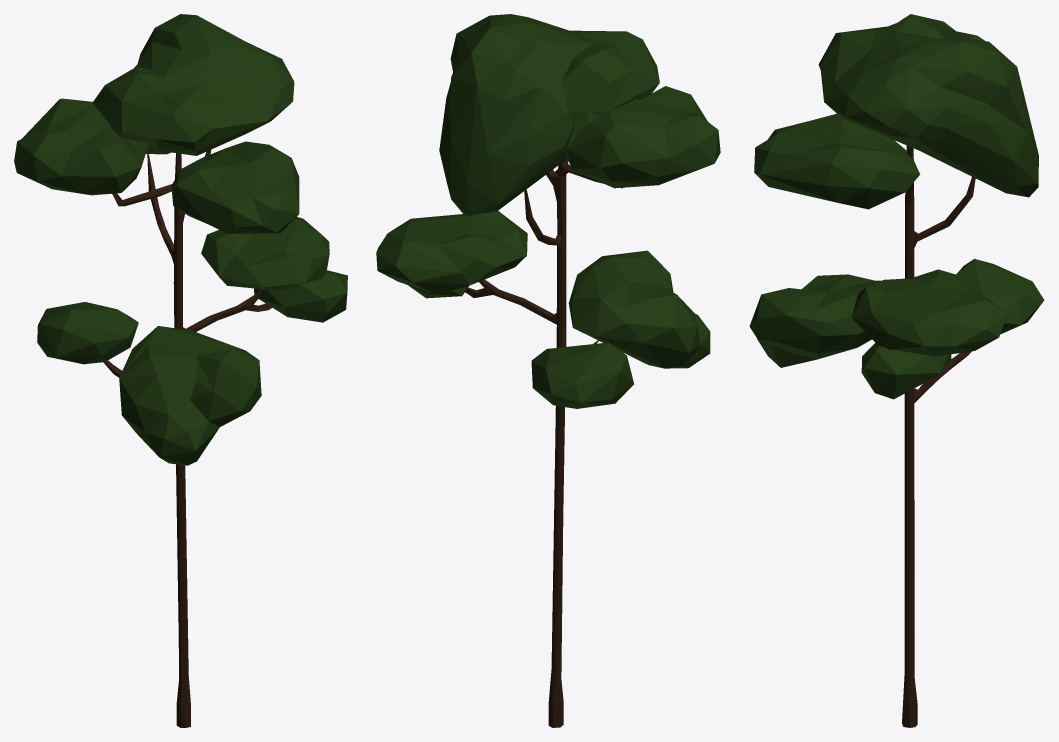
The model's file is SM_tree_jungle_08.fbx.
3 renders of one model, left to right at view 1: azimuth 30°, elevation 25°; view 2: azimuth 150°, elevation 25°; view 3: azimuth 270°, elevation 25°, orthographic. The views are drawn at different scales.
Parts seen in each view (by area): view 1: Object008; view 2: Object008; view 3: Object008.
Part boxes in pixels (x1,y1,x2,y2): Object008: (14,14,347,727); Object008: (376,14,720,727); Object008: (749,14,1044,727).
Bounding box in the file's own units: 316 × 647 × 246.
